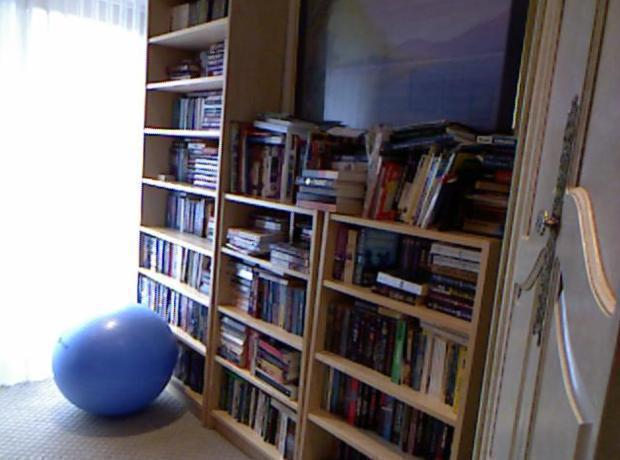Otro Obstaculo: (57, 294, 179, 419)
